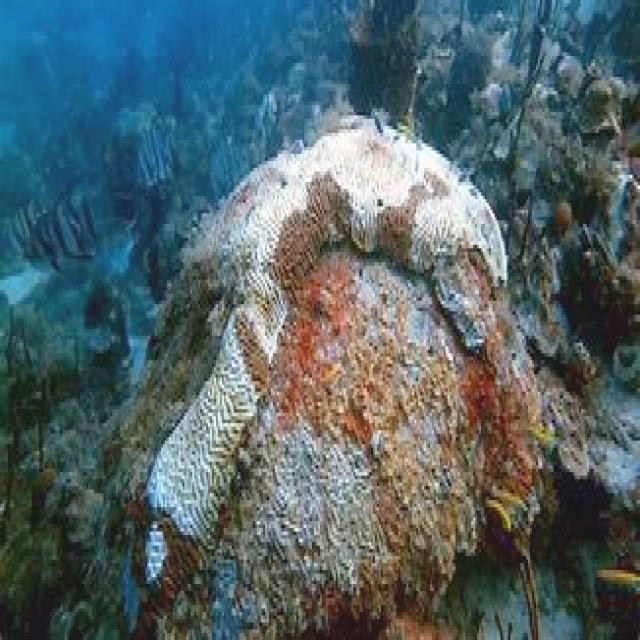Coral: (128, 114, 542, 640)
